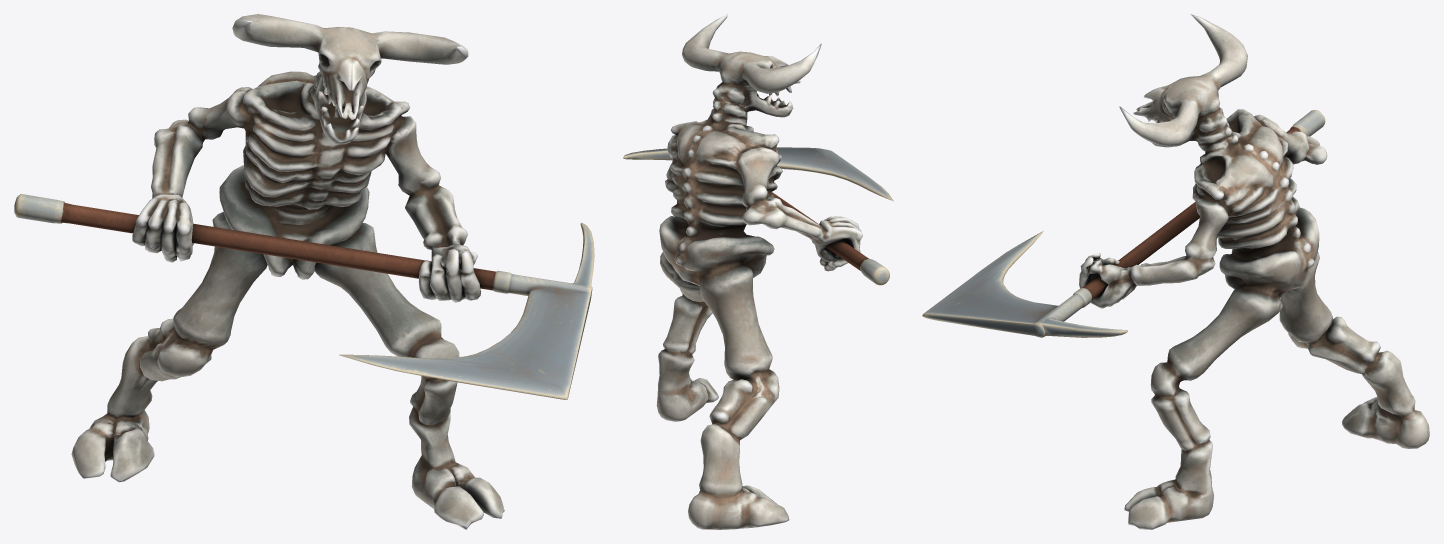
File: MZ4250 - Skeleton Minotaur.glb
The picture shows the model from 3 angles, left to right: view 1: azimuth 30°, elevation 25°; view 2: azimuth 150°, elevation 25°; view 3: azimuth 270°, elevation 25°; orthographic projection. The views are drawn at different scales.
Parts seen in each view (by area): view 1: body_low.001; view 2: body_low.001; view 3: body_low.001.
Boxes of the visible parts, box(x1,y1,x2,y2) form: body_low.001: box(14, 14, 594, 529); body_low.001: box(623, 14, 893, 529); body_low.001: box(922, 14, 1429, 529).
Size of the model in its own units: 5.35 by 5.89 by 6.32.
1 material, 1 textured.
